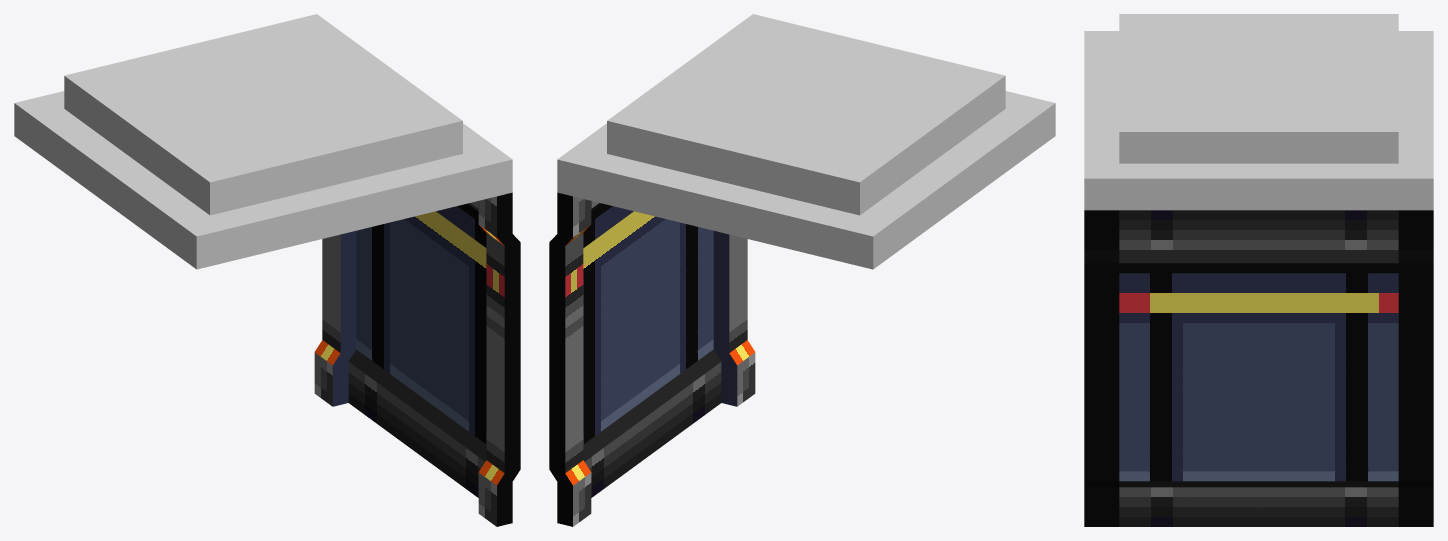
Rendered from 002-NSW.glb.
3 renders of one model, left to right at view 1: azimuth 30°, elevation 25°; view 2: azimuth 150°, elevation 25°; view 3: azimuth 270°, elevation 25°, orthographic. The views are drawn at different scales.
Parts seen in each view (by area): view 1: Roof, E; view 2: Roof, E; view 3: E, Roof.
Part boxes in pixels (bbox=[...]): Roof: bbox=[14, 14, 512, 269]; E: bbox=[314, 192, 520, 526]; Roof: bbox=[557, 14, 1055, 269]; E: bbox=[549, 192, 755, 526]; E: bbox=[1084, 210, 1433, 526]; Roof: bbox=[1084, 14, 1433, 210].
Size of the model in its own units: 2.05 by 2.4 by 2.
Materials: 2 (1 with a texture image).
